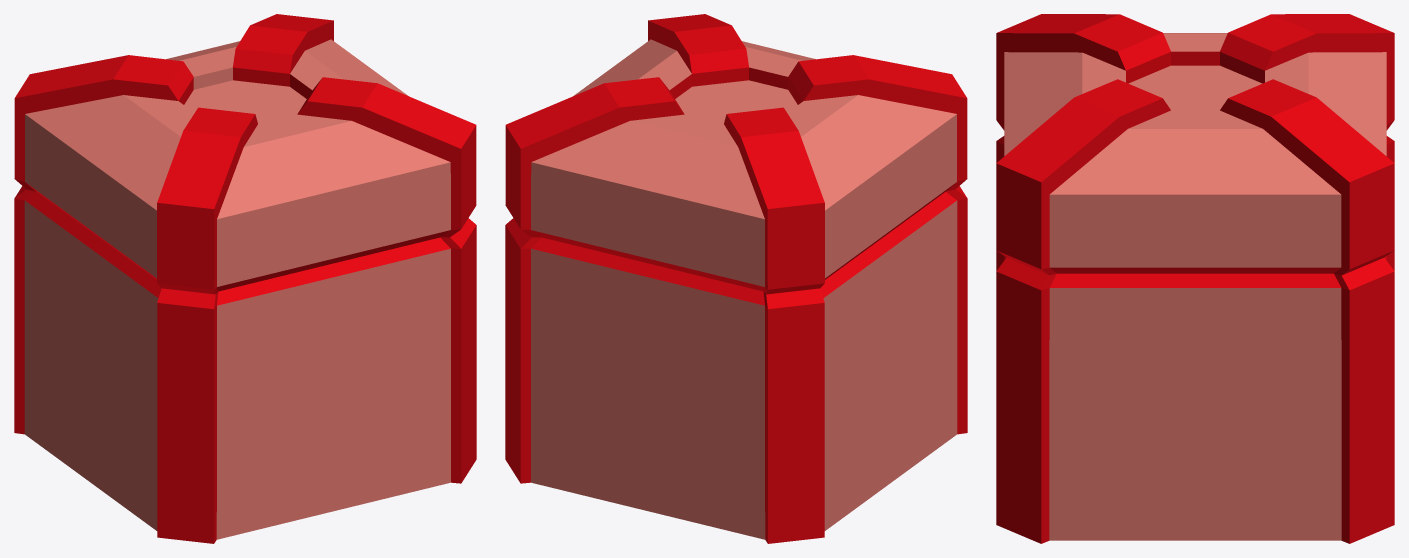
Rendered from Vbox2.fbx.
3 views of the same model, side by side, from view 1: azimuth 30°, elevation 25°; view 2: azimuth 150°, elevation 25°; view 3: azimuth 270°, elevation 25° (orthographic). The views are drawn at different scales.
Visible parts, largest first — view 1: Cube.003, Cube.002, Cube.004, Cube.006, Cube.008, Cube.007; view 2: Cube.006, Cube.008, Cube.007, Cube.003, Cube.002, Cube.004; view 3: Cube.008, Cube.004, Cube.006, Cube.003, Cube.002, Cube.007.
Part boxes in pixels (<box>): Cube.003: <box>40,299,476,543</box>; Cube.002: <box>90,127,333,393</box>; Cube.004: <box>289,95,476,419</box>; Cube.006: <box>14,55,288,298</box>; Cube.008: <box>166,14,408,127</box>; Cube.007: <box>14,247,89,444</box>; Cube.006: <box>648,57,924,393</box>; Cube.008: <box>505,28,779,419</box>; Cube.007: <box>505,302,886,543</box>; Cube.003: <box>837,247,967,521</box>; Cube.002: <box>781,55,967,301</box>; Cube.004: <box>619,14,815,63</box>; Cube.008: <box>1092,79,1394,491</box>; Cube.004: <box>996,80,1278,491</box>; Cube.006: <box>1092,14,1394,162</box>; Cube.003: <box>996,250,1308,543</box>; Cube.002: <box>996,14,1100,162</box>; Cube.007: <box>1279,250,1394,543</box>.
Bounding box in the file's own units: 209 × 228 × 209.
